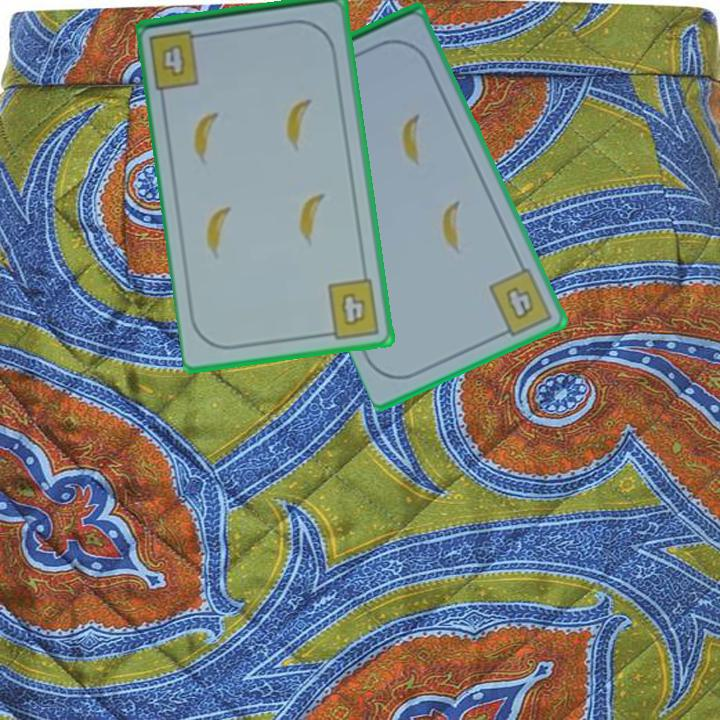4b: (485, 264, 556, 341), (145, 26, 211, 92), (320, 275, 383, 342)
